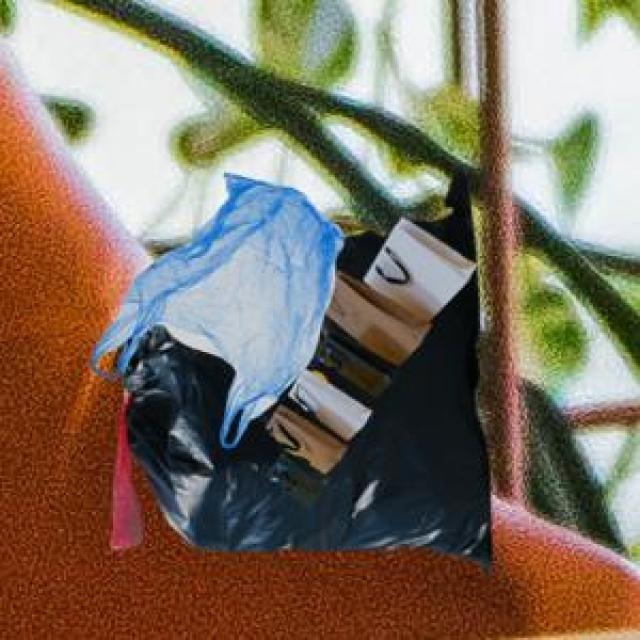miscellaneous trash: (108, 169, 486, 570)
paper: (262, 213, 472, 504)
